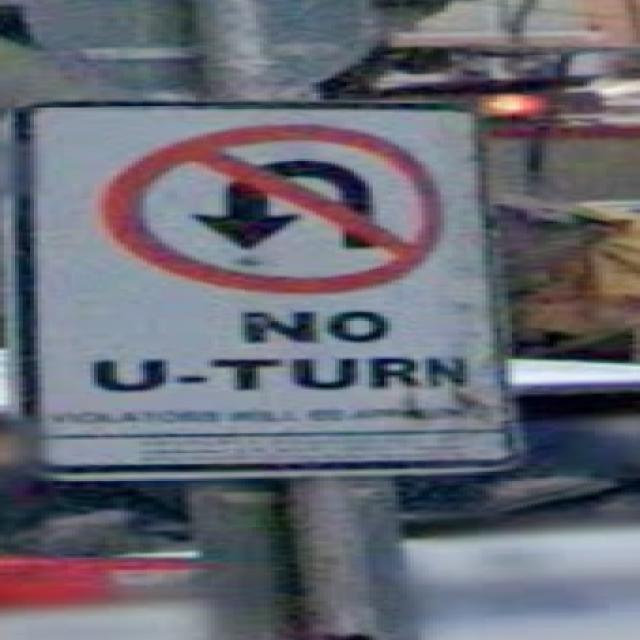no u turn: (98, 125, 440, 292)
